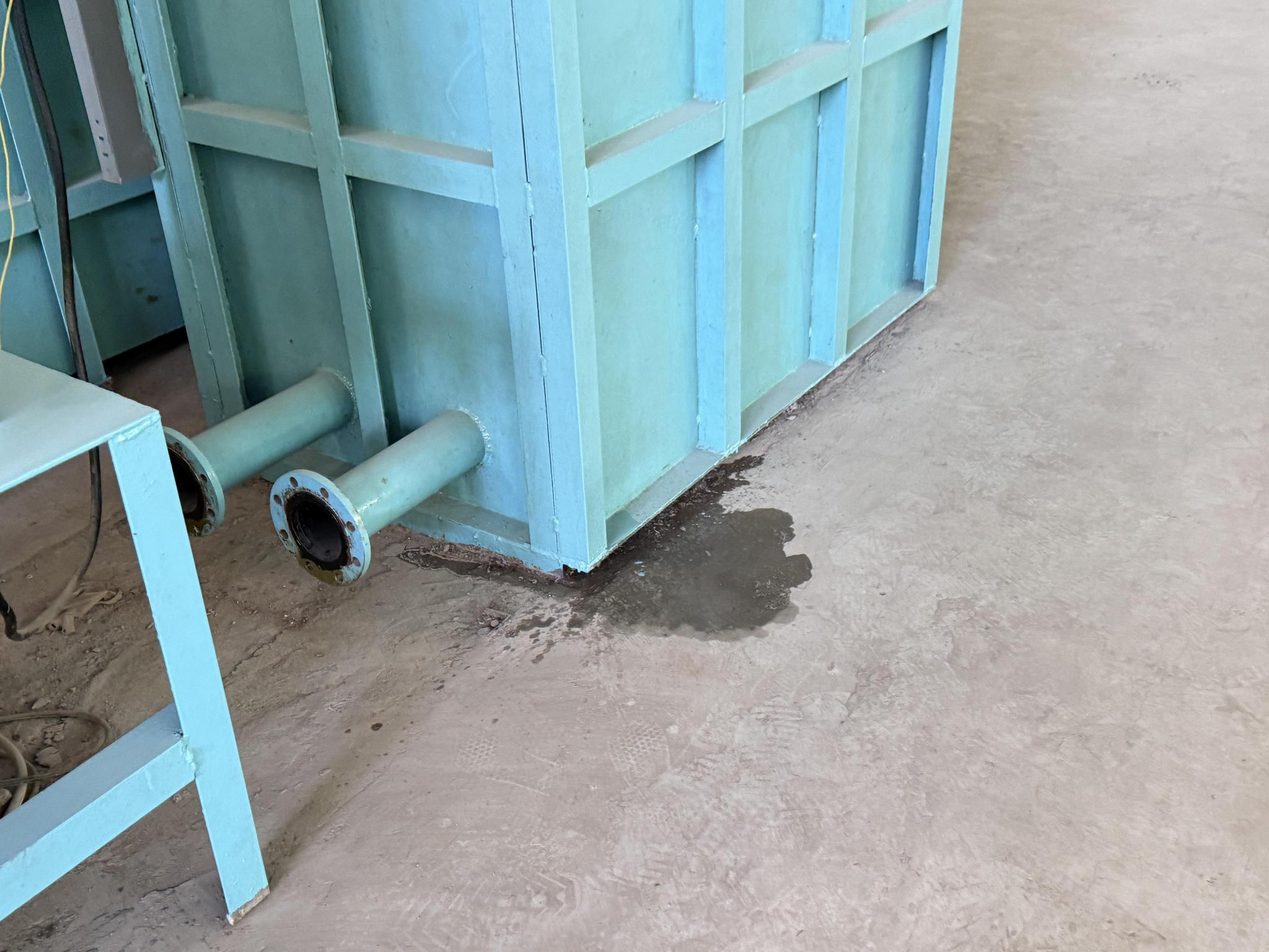water accumulation: (404, 456, 812, 635)
